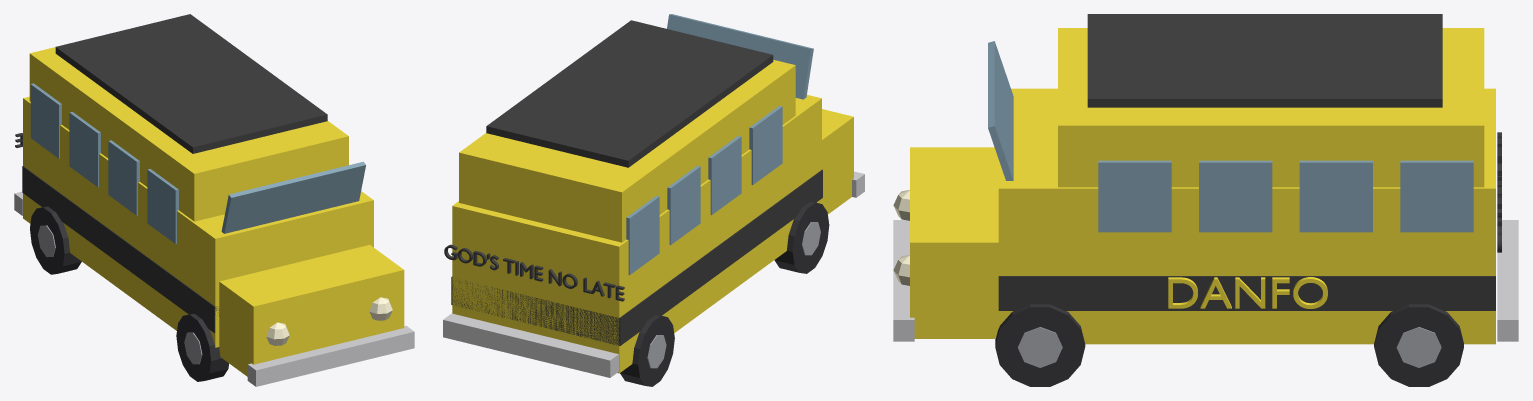
File: VH_Danfo.glb
3 views of the same model, side by side, from view 1: azimuth 30°, elevation 25°; view 2: azimuth 150°, elevation 25°; view 3: azimuth 270°, elevation 25° (orthographic). The views are drawn at different scales.
Parts seen in each view (by area): view 1: VH_Danfo; view 2: VH_Danfo; view 3: VH_Danfo.
Part boxes in pixels (x1,y1,x2,y2): VH_Danfo: (14, 14, 414, 386); VH_Danfo: (443, 14, 864, 386); VH_Danfo: (893, 14, 1518, 386).
Bounding box in the file's own units: 2.16 × 2.58 × 5.28.
